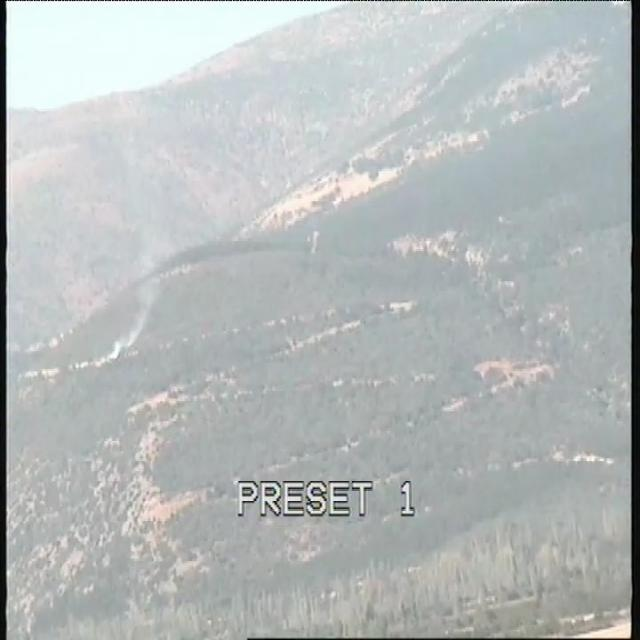smoke: (104, 270, 164, 366)
